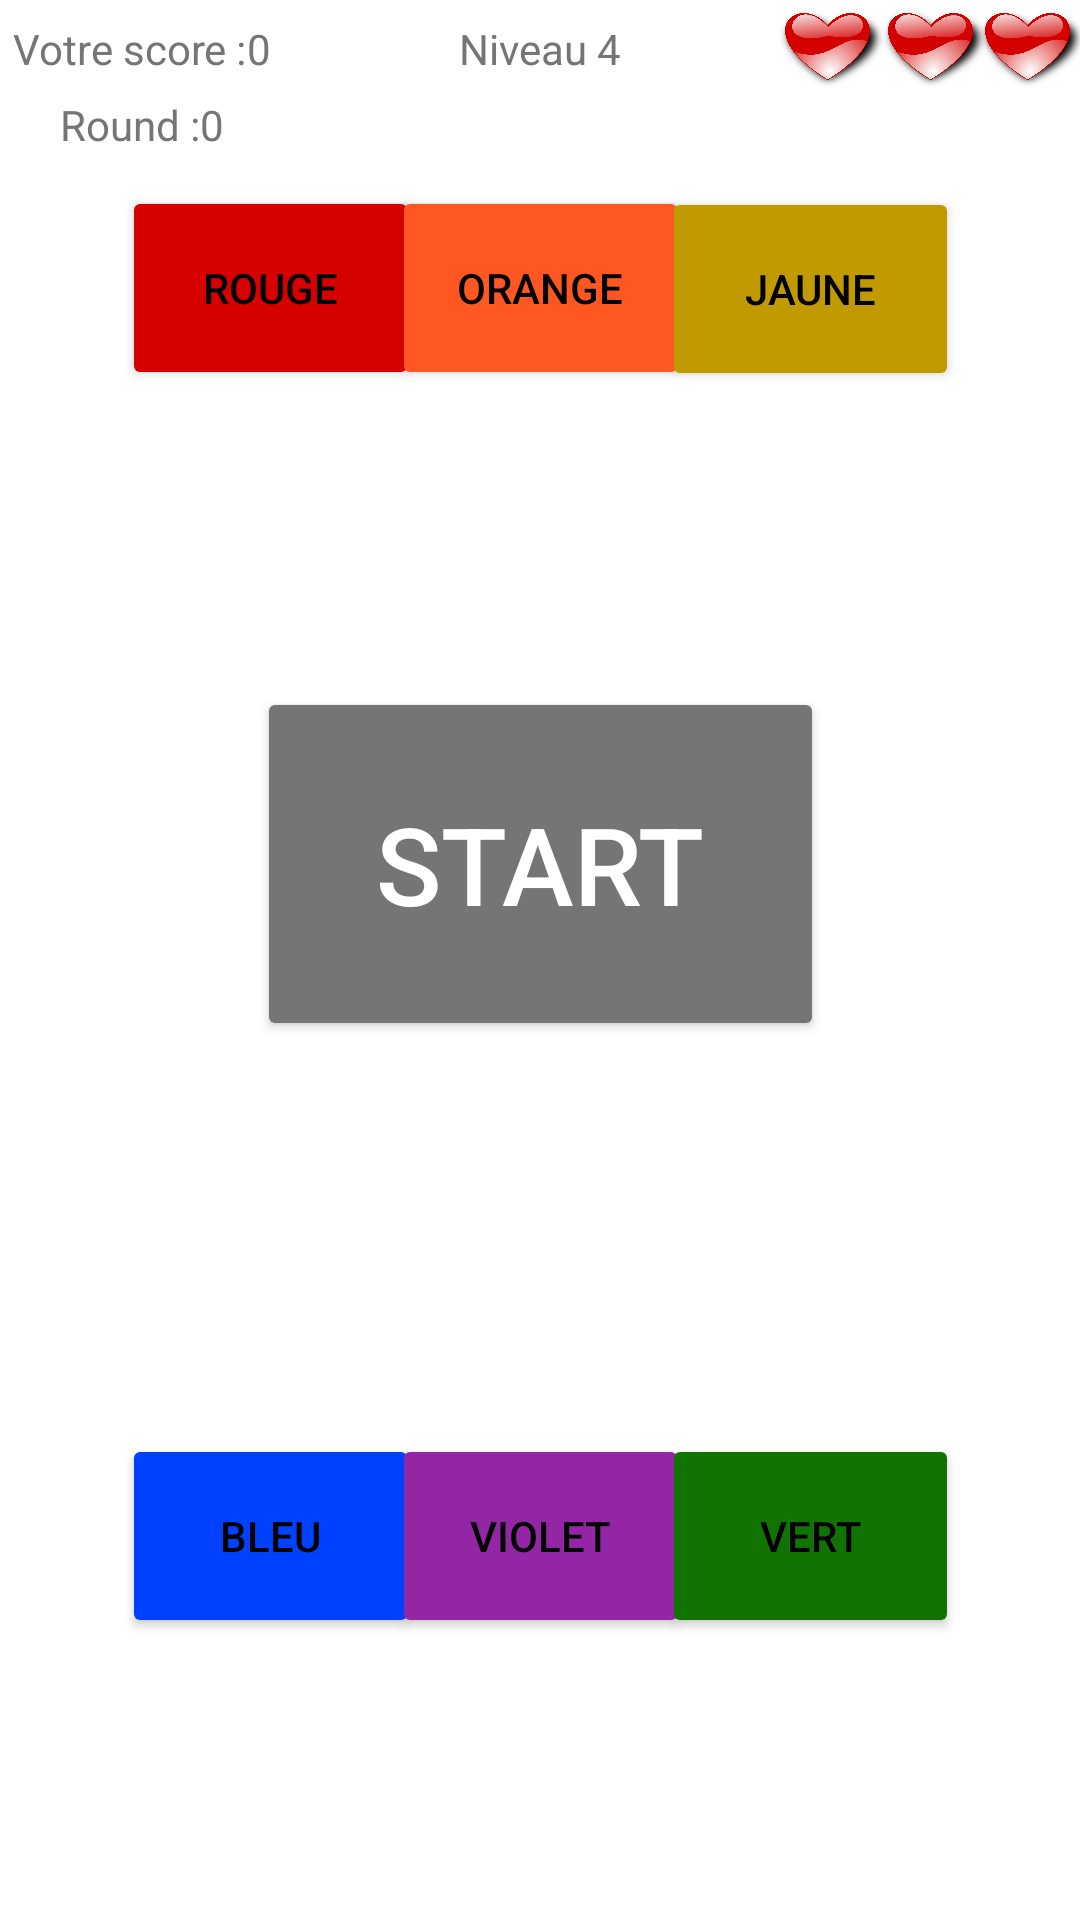

Screen size 1080x1920. Icon name, then its center in pixels as point (x, y):
Image de Coeur pour la vie: point (832, 48), point (1029, 48)
